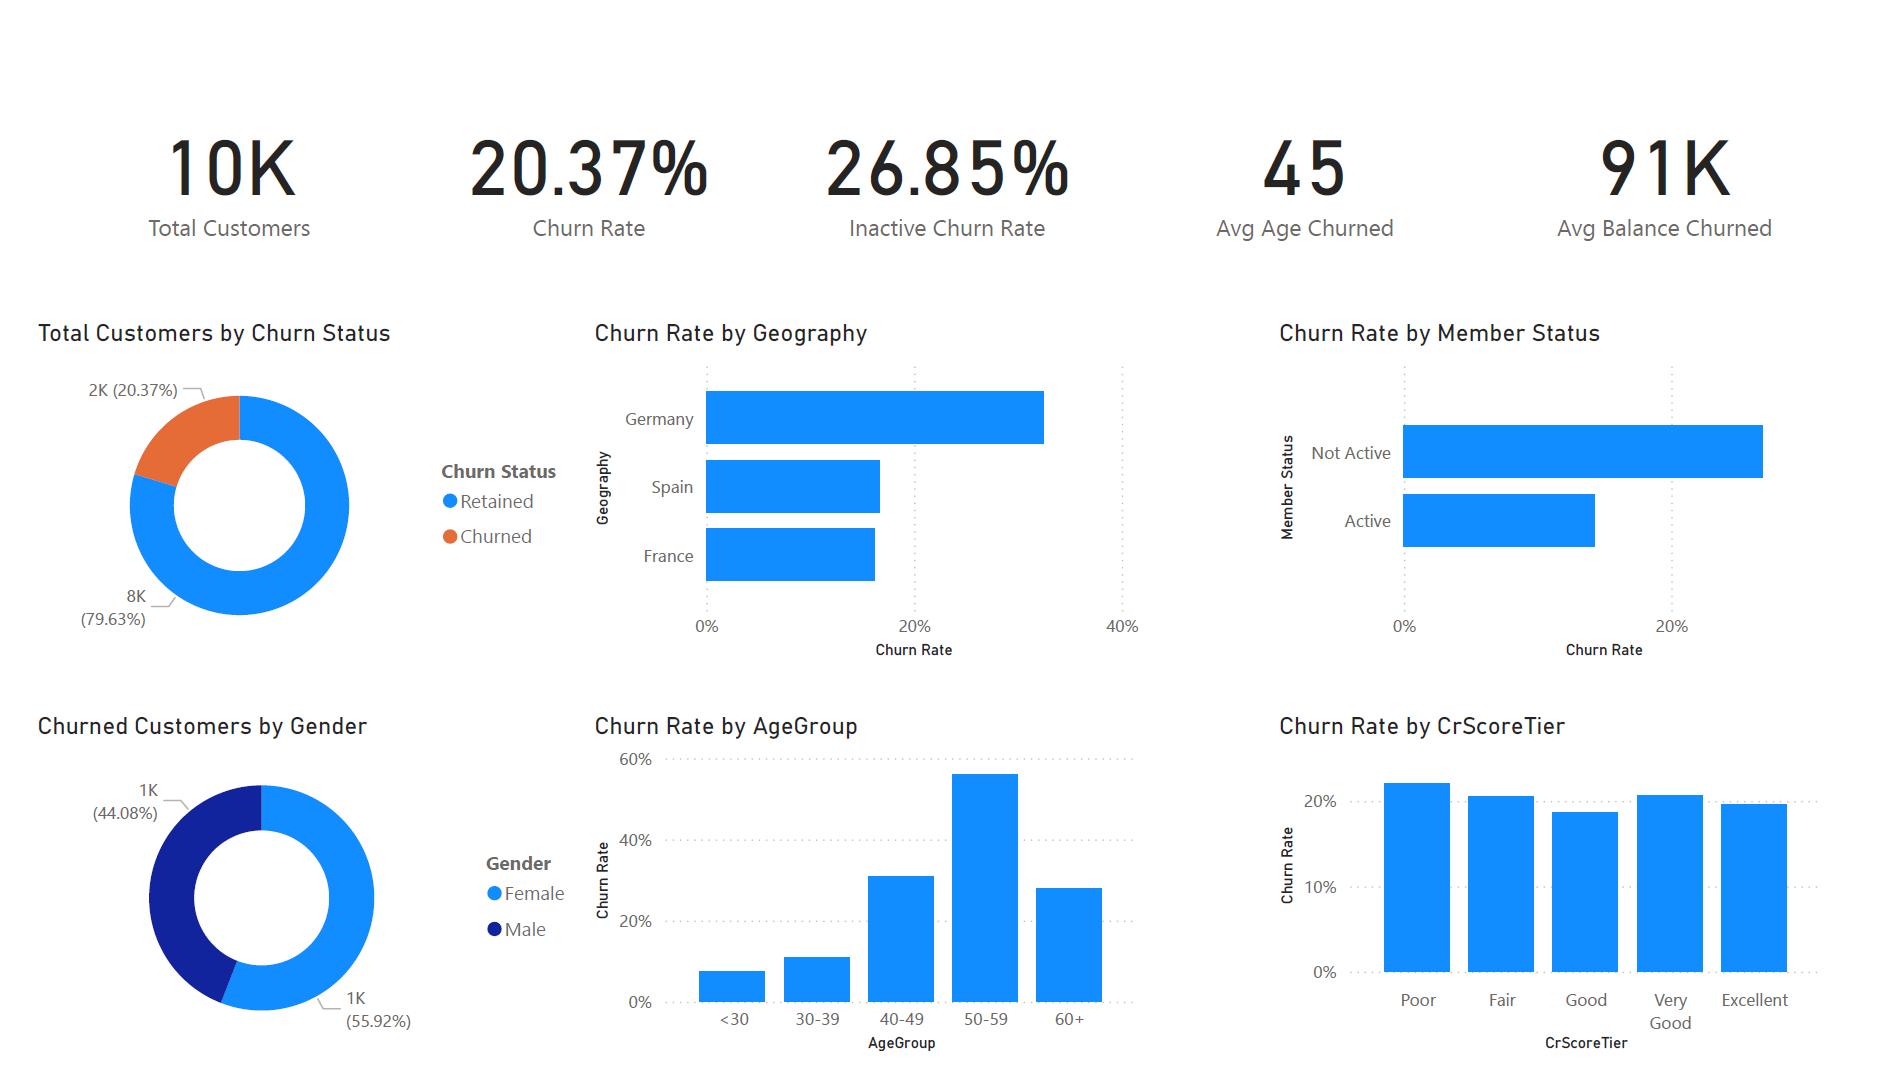

The page's visual inventory and layout, read from the dashboard file:
{"tool":"powerbi","page":{"name":"Page 1","canvas":[1280,720],"ordinal":0},"visuals":[{"type":"card","fields":{"Values":["Churn_Data.Total Customers"]},"box":[0,0,278.5,204.1],"z":0},{"type":"card","fields":{"Values":["Churn_Data.Churn Rate"]},"box":[250.7,0,278.5,204.1],"z":1000},{"type":"card","fields":{"Values":["Churn_Data.Avg Balance Churned"]},"box":[1001.5,0,278.5,204.1],"z":2000},{"type":"card","fields":{"Values":["Churn_Data.Avg Age Churned"]},"box":[750.8,0,278.5,204.1],"z":3000},{"type":"card","fields":{"Values":["Churn_Data.Inactive Churn Rate"]},"box":[501.4,0,277.2,203.8],"z":4000},{"type":"donutChart","fields":{"Y":["Churn_Data.Total Customers"],"Category":["Churn_Data.Churn Status"]},"box":[0,203.8,389.3,242.5],"z":5000},{"type":"barChart","fields":{"Category":["Churn_Data.Geography"],"Y":["Churn_Data.Churn Rate"]},"box":[389.3,203.8,389.3,242.5],"z":6000},{"type":"barChart","fields":{"Category":["Churn_Data.Active Member Status"],"Y":["Churn_Data.Churn Rate"]},"box":[867,204.1,389.2,242.1],"z":7000},{"type":"donutChart","fields":{"Category":["Churn_Data.Gender"],"Y":["Churn_Data.Churned Customers"]},"box":[0,477.8,389.2,242.1],"z":8000},{"type":"clusteredColumnChart","fields":{"Y":["Churn_Data.Churn Rate"],"Category":["Churn_Data.AgeGroup"]},"box":[389,478,389,242],"z":9000},{"type":"columnChart","fields":{"Y":["Churn_Data.Churn Rate"],"Category":["Churn_Data.CrScoreTier"]},"box":[867,478,389,242],"z":10000}]}

Visuals, with their boxes in screenshot pixels (x1, y1, x2, y2), scaled from the page's 1280x720 canvas onto the 1891x1083 screenshot:
card - Churn_Data.Total Customers: left=0, top=0, right=411, bottom=307
card - Churn_Data.Churn Rate: left=370, top=0, right=782, bottom=307
card - Churn_Data.Avg Balance Churned: left=1480, top=0, right=1890, bottom=307
card - Churn_Data.Avg Age Churned: left=1109, top=0, right=1521, bottom=307
card - Churn_Data.Inactive Churn Rate: left=741, top=0, right=1150, bottom=307
donutChart - Churn_Data.Total Customers x Churn_Data.Churn Status: left=0, top=307, right=575, bottom=671
barChart - Churn_Data.Geography x Churn_Data.Churn Rate: left=575, top=307, right=1150, bottom=671
barChart - Churn_Data.Active Member Status x Churn_Data.Churn Rate: left=1281, top=307, right=1856, bottom=671
donutChart - Churn_Data.Gender x Churn_Data.Churned Customers: left=0, top=719, right=575, bottom=1082
clusteredColumnChart - Churn_Data.Churn Rate x Churn_Data.AgeGroup: left=575, top=719, right=1149, bottom=1082
columnChart - Churn_Data.Churn Rate x Churn_Data.CrScoreTier: left=1281, top=719, right=1856, bottom=1082
